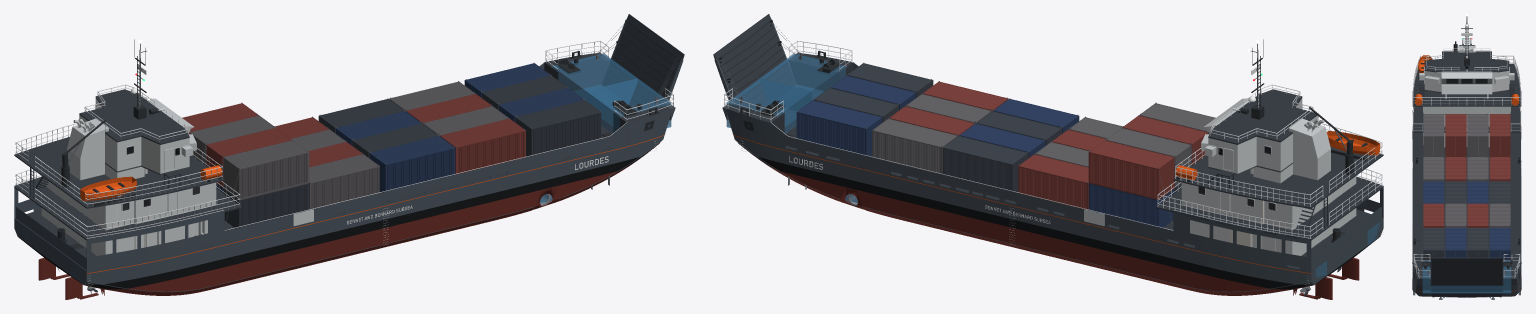
File: lourdes.glb
The picture shows the model from 3 angles, left to right: view 1: azimuth 30°, elevation 25°; view 2: azimuth 150°, elevation 25°; view 3: azimuth 270°, elevation 25°; orthographic projection. The views are drawn at different scales.
Parts seen in each view (by area): view 1: LR_Hull_ShellStbd, LR_Hull_BulwarkS, LR_HouseBridge_DeckPlate, LR_CargoRamp_Container_B1_R4_T2, LR_CargoRamp_Plate, LR_CargoRamp_Container_B3_R4_T1, LR_CargoRamp_Container_B5_R4_T1, LR_Wheelhouse_Roof, LR_CargoRamp_Container_B4_R4_T1, LR_CargoRamp_Container_B2_R4_T1, LR_HouseAcc1_DeckPlate, LR_HouseAcc1_Walls (+39 smaller); view 2: LR_Hull_ShellPort, LR_Hull_BulwarkP, LR_HouseBridge_DeckPlate, LR_CargoRamp_Container_B1_R1_T2, LR_CargoRamp_Plate, LR_CargoRamp_Container_B3_R1_T1, LR_CargoRamp_Container_B5_R1_T1, LR_Wheelhouse_Roof, LR_CargoRamp_Container_B4_R1_T1, LR_HouseAcc1_DeckPlate, LR_CargoRamp_Container_B2_R1_T1, LR_HouseAcc1_Walls (+40 smaller); view 3: LR_CargoRamp_Plate, LR_HouseBridge_DeckPlate, LR_Hull_DeckWingP, LR_Hull_DeckWingS, LR_Wheelhouse_Roof, LR_Wheelhouse_FrontBlock, LR_CargoRamp_Container_B1_R1_T2, LR_CargoRamp_Container_B1_R2_T2, LR_CargoRamp_Container_B1_R3_T2, LR_CargoRamp_Container_B1_R4_T2, LR_Wheelhouse_Walls, LR_HouseAcc1_Walls (+39 smaller).
Boxes of the visible parts, x1,y1,x2,y2 form: LR_Hull_ShellStbd: [103, 145, 627, 295]; LR_Hull_BulwarkS: [86, 123, 627, 271]; LR_HouseBridge_DeckPlate: [14, 137, 224, 208]; LR_CargoRamp_Container_B1_R4_T2: [223, 140, 309, 199]; LR_CargoRamp_Plate: [602, 20, 680, 107]; LR_CargoRamp_Container_B3_R4_T1: [369, 136, 455, 192]; LR_CargoRamp_Container_B5_R4_T1: [515, 100, 601, 156]; LR_Wheelhouse_Roof: [79, 89, 189, 144]; LR_CargoRamp_Container_B4_R4_T1: [440, 118, 525, 174]; LR_CargoRamp_Container_B2_R4_T1: [309, 154, 379, 210]; LR_HouseAcc1_DeckPlate: [14, 177, 241, 240]; LR_HouseAcc1_Walls: [41, 176, 216, 230]; LR_Hull_ShellPort: [770, 145, 1294, 295]; LR_Hull_BulwarkP: [770, 123, 1311, 271]; LR_HouseBridge_DeckPlate: [1173, 146, 1383, 208]; LR_CargoRamp_Container_B1_R1_T2: [1088, 140, 1174, 199]; LR_CargoRamp_Plate: [717, 20, 795, 107]; LR_CargoRamp_Container_B3_R1_T1: [942, 136, 1028, 192]; LR_CargoRamp_Container_B5_R1_T1: [796, 100, 882, 156]; LR_Wheelhouse_Roof: [1208, 89, 1317, 144]; LR_CargoRamp_Container_B4_R1_T1: [872, 118, 957, 174]; LR_HouseAcc1_DeckPlate: [1156, 177, 1383, 240]; LR_CargoRamp_Container_B2_R1_T1: [1018, 154, 1088, 210]; LR_HouseAcc1_Walls: [1181, 176, 1356, 230]; LR_CargoRamp_Plate: [1432, 261, 1501, 296]; LR_HouseBridge_DeckPlate: [1412, 63, 1521, 106]; LR_Hull_DeckWingP: [1503, 133, 1521, 277]; LR_Hull_DeckWingS: [1412, 133, 1430, 277]; LR_Wheelhouse_Roof: [1424, 51, 1509, 72]; LR_Wheelhouse_FrontBlock: [1441, 71, 1492, 94]; LR_CargoRamp_Container_B1_R1_T2: [1489, 114, 1510, 156]; LR_CargoRamp_Container_B1_R2_T2: [1467, 114, 1488, 156]; LR_CargoRamp_Container_B1_R3_T2: [1445, 114, 1466, 156]; LR_CargoRamp_Container_B1_R4_T2: [1423, 114, 1444, 156]; LR_Wheelhouse_Walls: [1419, 71, 1514, 91]; LR_HouseAcc1_Walls: [1423, 106, 1510, 126].
Size of the model in its own units: 52.7 by 19.17 by 12.55.
